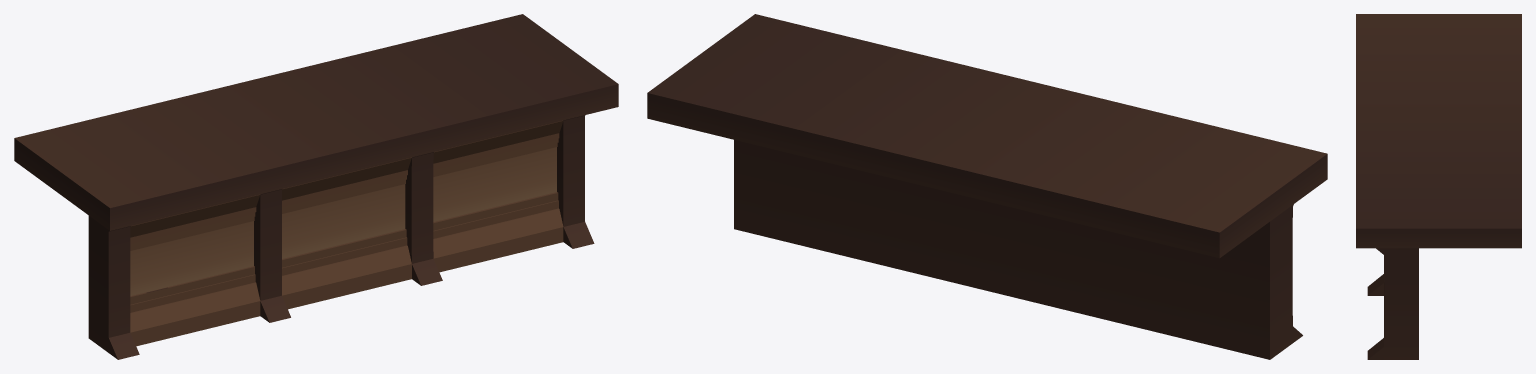
File: bartable.fbx
The picture shows the model from 3 angles, left to right: view 1: azimuth 30°, elevation 25°; view 2: azimuth 150°, elevation 25°; view 3: azimuth 270°, elevation 25°; orthographic projection. The views are drawn at different scales.
Visible parts, largest first — view 1: Cube, Cube.003; view 2: Cube.003, Cube; view 3: Cube.003, Cube.
Boxes of the visible parts, left/top/right/bottom form: Cube: left=88, top=115, right=594, bottom=359; Cube.003: left=14, top=14, right=618, bottom=230; Cube.003: left=647, top=14, right=1327, bottom=258; Cube: left=734, top=140, right=1302, bottom=359; Cube.003: left=1356, top=14, right=1521, bottom=248; Cube: left=1367, top=248, right=1418, bottom=359.
Size of the model in its own units: 3621 by 1090 by 1182.
